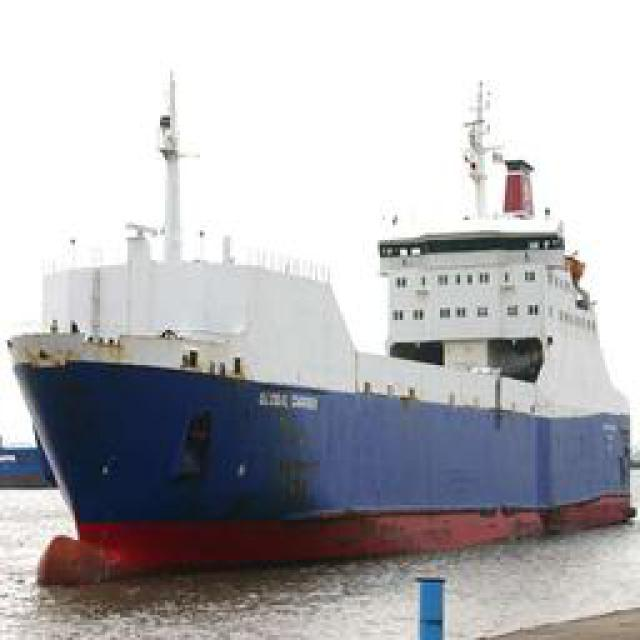Ship: (15, 50, 630, 580)
